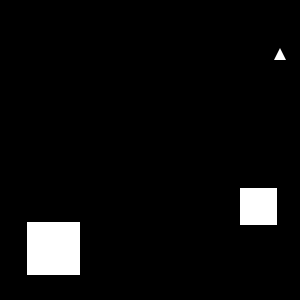circle: (27, 222, 80, 275), (240, 188, 277, 225)
triangle: (274, 48, 286, 60)
